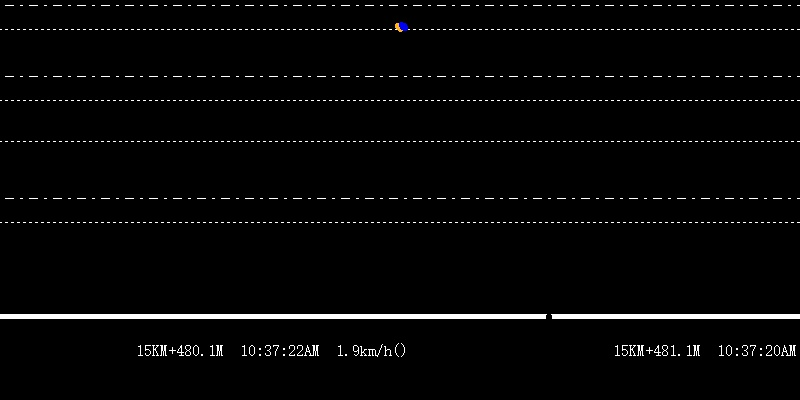face_s: (393, 21, 410, 35)
